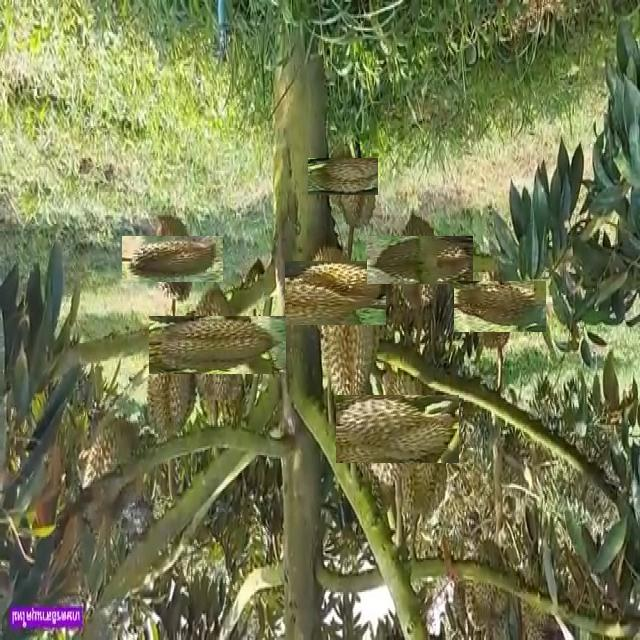durian: (169, 296, 267, 394), (350, 381, 446, 476), (321, 269, 380, 408), (78, 415, 147, 532), (294, 251, 378, 335), (143, 324, 198, 444), (381, 221, 458, 299), (136, 222, 210, 296), (464, 270, 536, 342), (461, 533, 513, 632), (337, 155, 377, 231), (316, 150, 370, 204)
